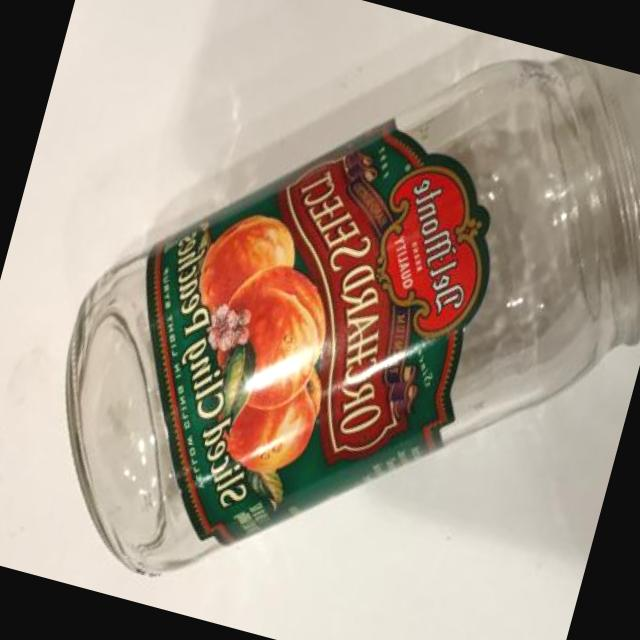chai_thuy_tinh: (66, 56, 640, 575)
